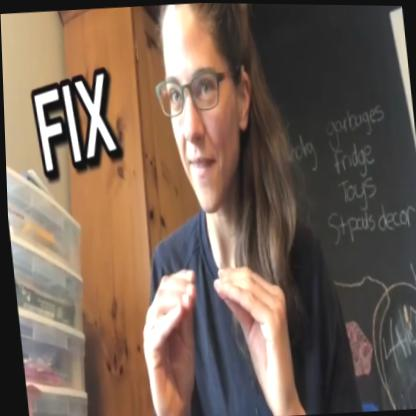Fix: (128, 221, 296, 416)
